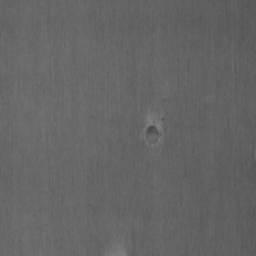Rolled pit: (145, 125, 160, 144)
